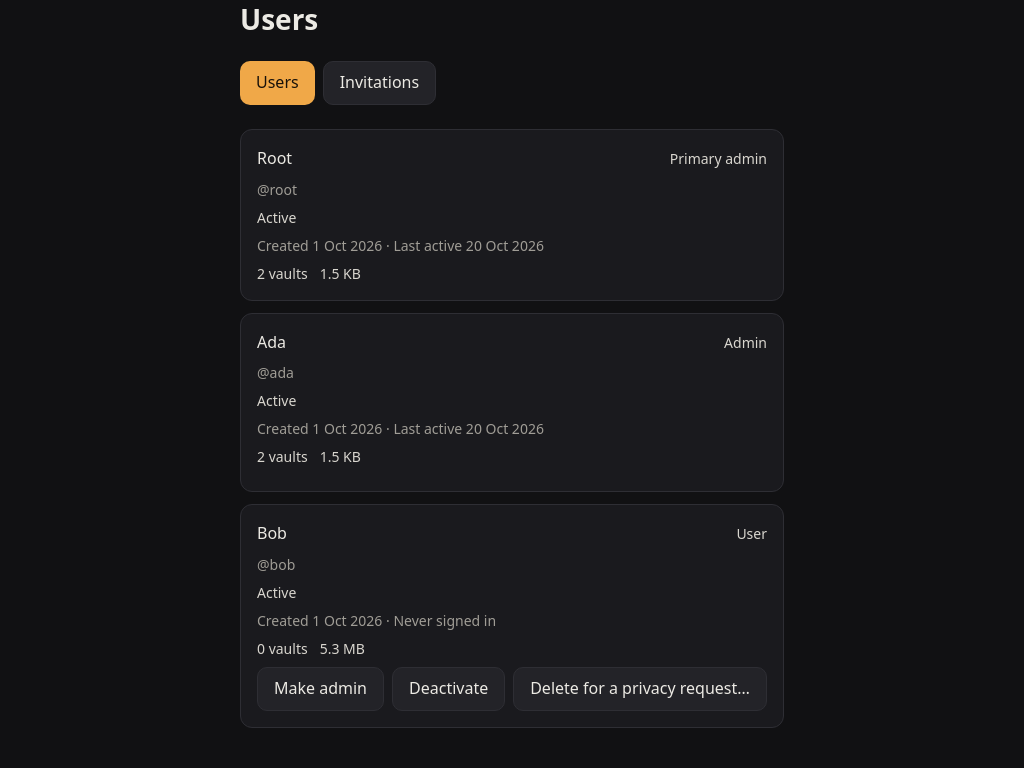
Admin users › deactivates only after the username was typed
(page scrolled)
Click the button with aria-label "Deactivate Bob". click: [449, 689]
box: [392, 667, 505, 711]
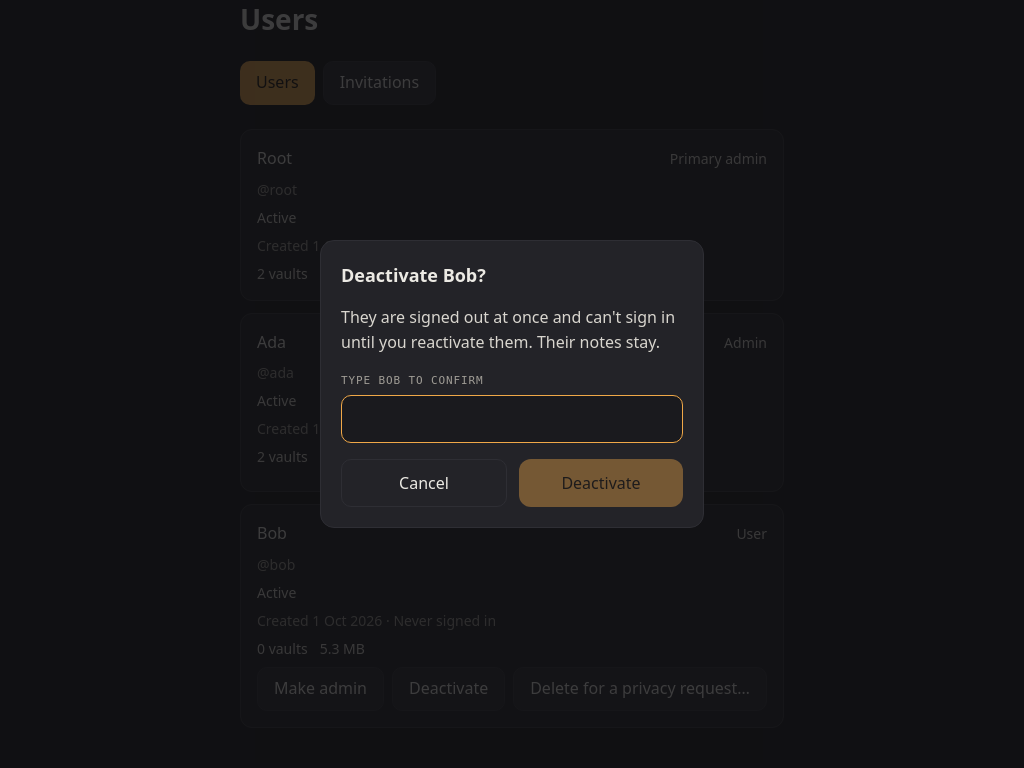
Now the button "Deactivate" is disabled, box [519, 459, 683, 507]
Type "bo" into the field labelled "Type bob to confirm". click: [512, 419]
box: [341, 395, 683, 443]
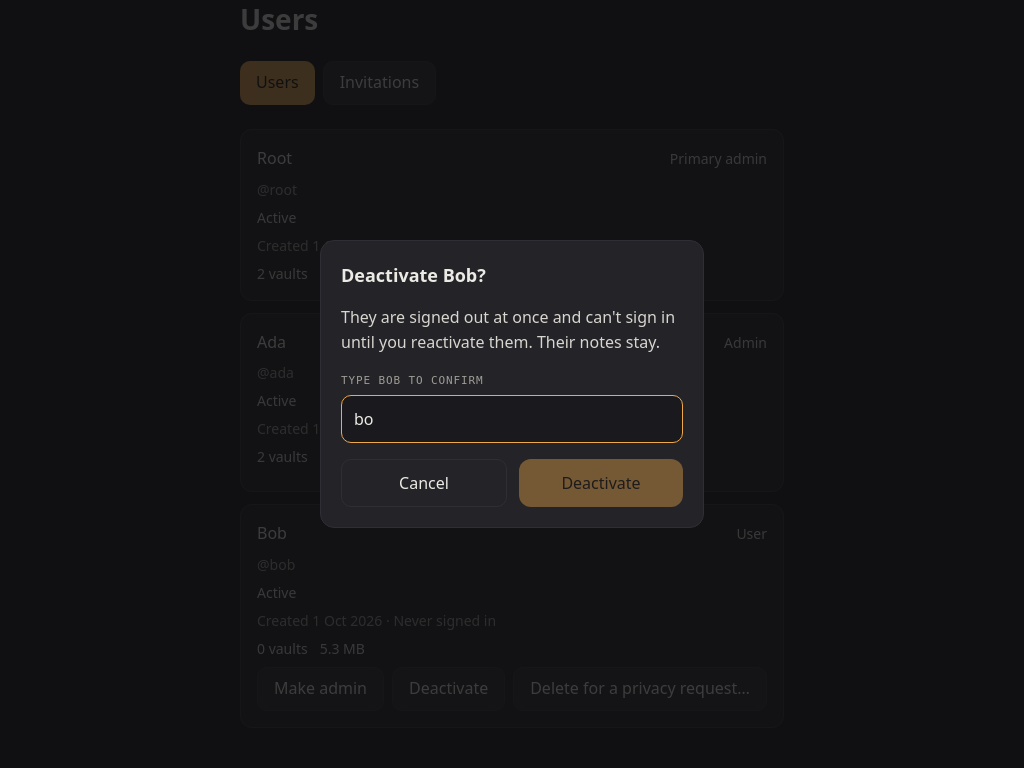
Now the button "Deactivate" is disabled, box [519, 459, 683, 507]
Type "b" into the field labelled "Type bob to confirm". click: [512, 419]
box: [341, 395, 683, 443]
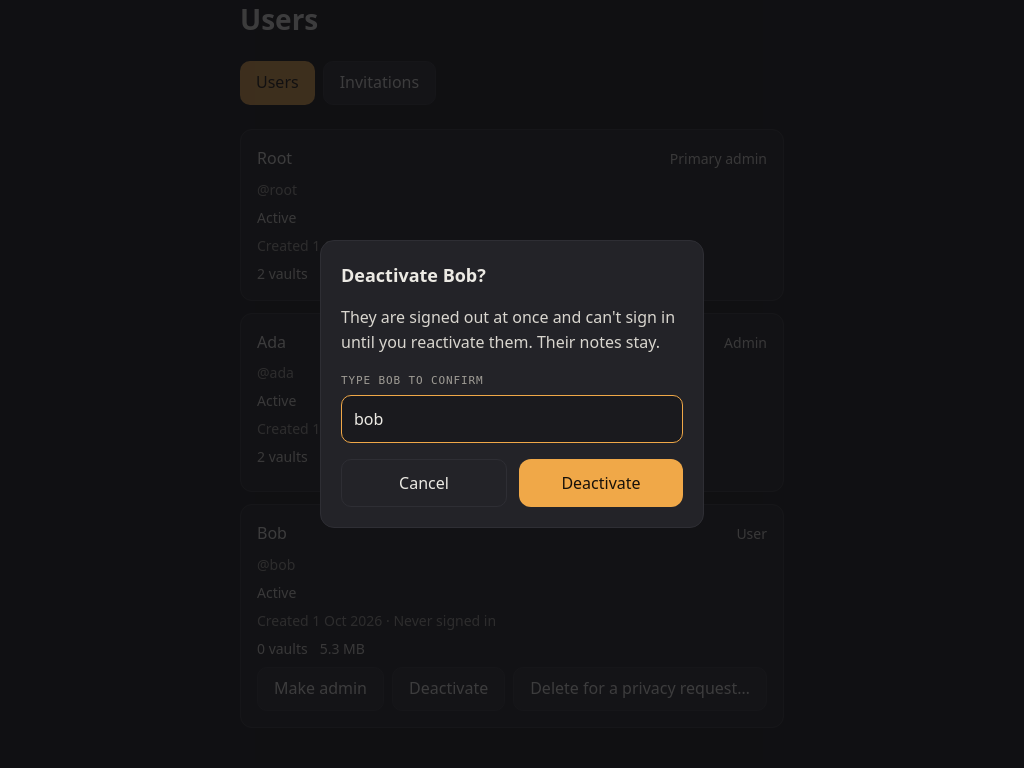
Click the button "Deactivate". click: [601, 483]
box: [519, 459, 683, 507]
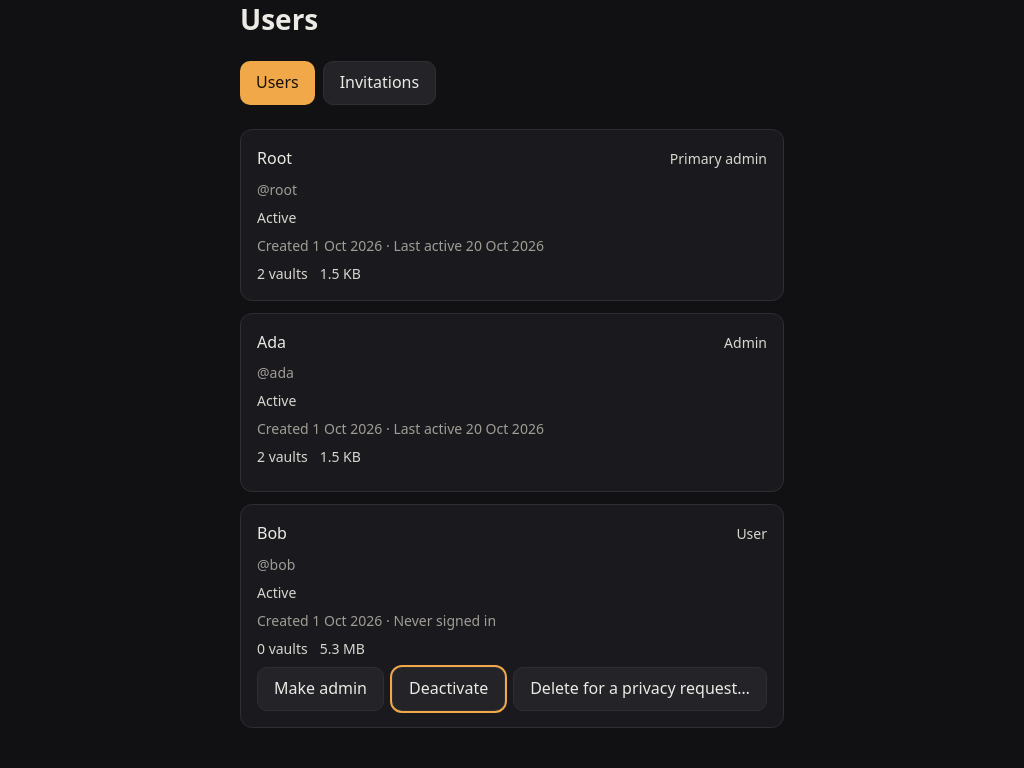
Now the dialog is gone
